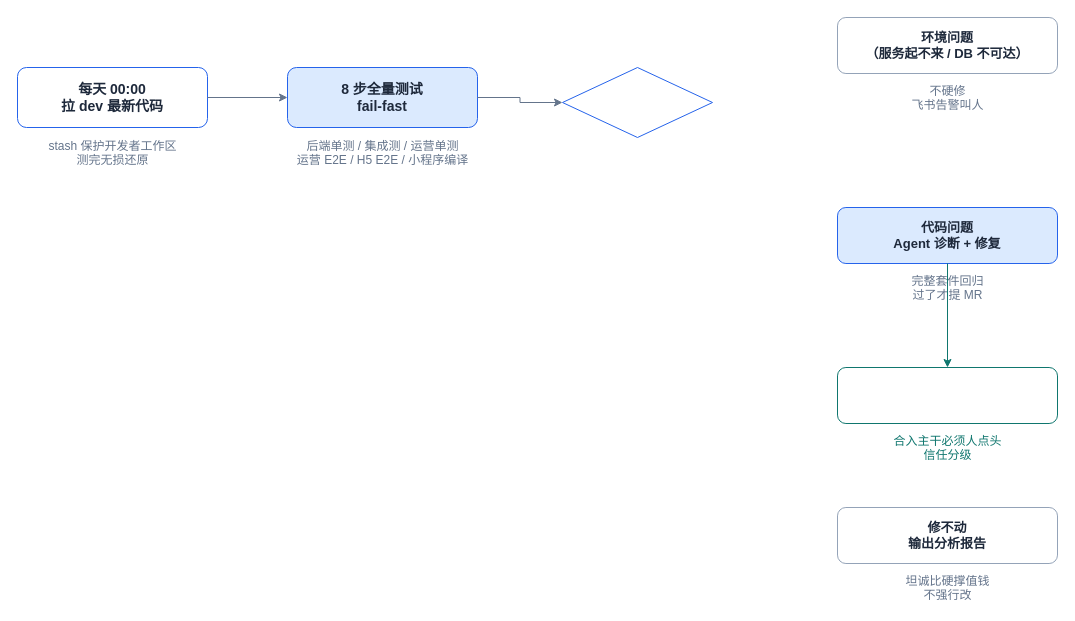
This 1075x621 diagram has some shape labels left out. The shapes that lost their labels are listed below. From the top down, each one's centre as x and y in pixels, then its label:
At [637,102]: "失败分流".
At [947,395]: "只提 MR，不合并".
